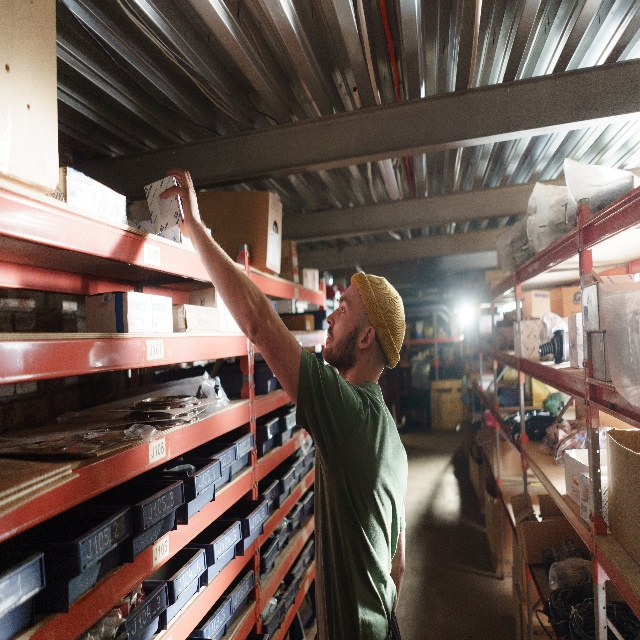Sin_guantes: (159, 167, 199, 239)
